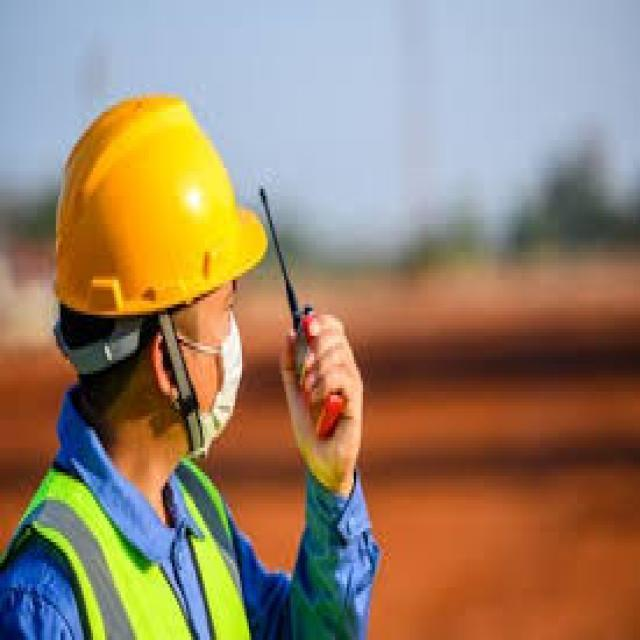reflective_jacket: (9, 447, 252, 639)
safety_helmet: (46, 91, 267, 329)
